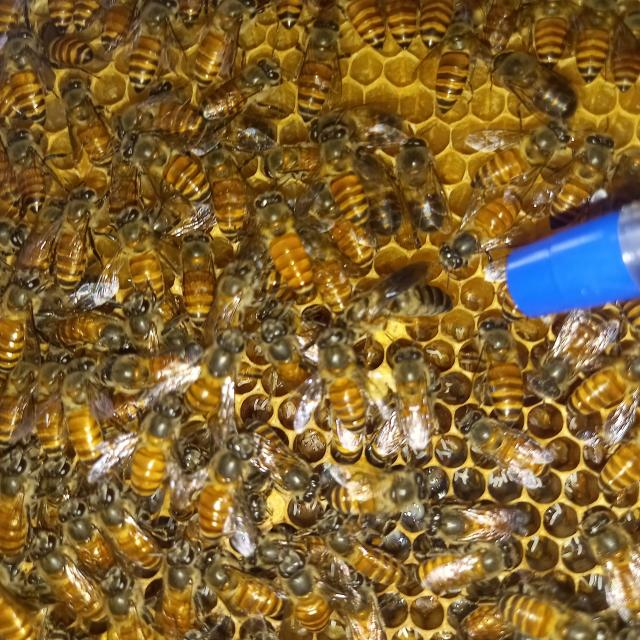honeybee: (280, 465, 468, 521), (545, 122, 638, 222), (248, 186, 328, 299), (32, 536, 118, 640), (280, 6, 347, 128), (135, 134, 220, 228), (426, 10, 496, 123), (470, 120, 569, 198), (100, 202, 172, 306), (583, 510, 640, 640), (390, 130, 458, 238), (88, 482, 164, 578), (470, 312, 532, 428), (442, 185, 529, 267), (536, 313, 613, 405), (55, 497, 128, 593), (319, 328, 379, 438), (498, 48, 580, 126), (468, 415, 552, 489), (322, 527, 410, 595), (388, 354, 442, 464), (336, 269, 450, 321), (318, 140, 379, 235), (192, 50, 278, 117), (204, 552, 290, 619), (440, 492, 544, 546), (180, 328, 241, 420), (120, 382, 168, 498), (571, 338, 640, 418), (59, 76, 119, 167), (50, 379, 114, 464), (187, 0, 247, 90), (201, 430, 249, 542), (37, 305, 127, 364), (502, 594, 617, 640), (413, 542, 522, 590), (252, 425, 329, 490), (128, 0, 181, 94), (315, 96, 399, 154), (165, 237, 215, 333), (128, 94, 215, 148), (204, 152, 258, 238), (260, 310, 311, 399), (1, 448, 41, 558), (198, 256, 252, 337), (280, 552, 333, 632), (0, 47, 47, 136), (335, 563, 388, 640), (8, 127, 52, 218), (54, 187, 90, 294), (589, 428, 640, 502), (574, 0, 615, 88), (0, 262, 28, 389), (10, 216, 58, 290), (0, 365, 40, 453), (38, 376, 81, 456), (521, 0, 574, 64), (408, 0, 459, 65), (124, 287, 165, 361), (452, 601, 522, 640), (32, 33, 106, 69), (260, 140, 330, 178), (0, 582, 45, 640), (346, 0, 394, 54), (383, 0, 426, 58), (614, 0, 640, 93), (100, 0, 141, 51), (478, 0, 516, 54), (0, 154, 24, 230), (0, 0, 28, 46), (70, 0, 104, 37), (24, 0, 49, 39), (45, 0, 74, 33), (275, 0, 298, 29)
